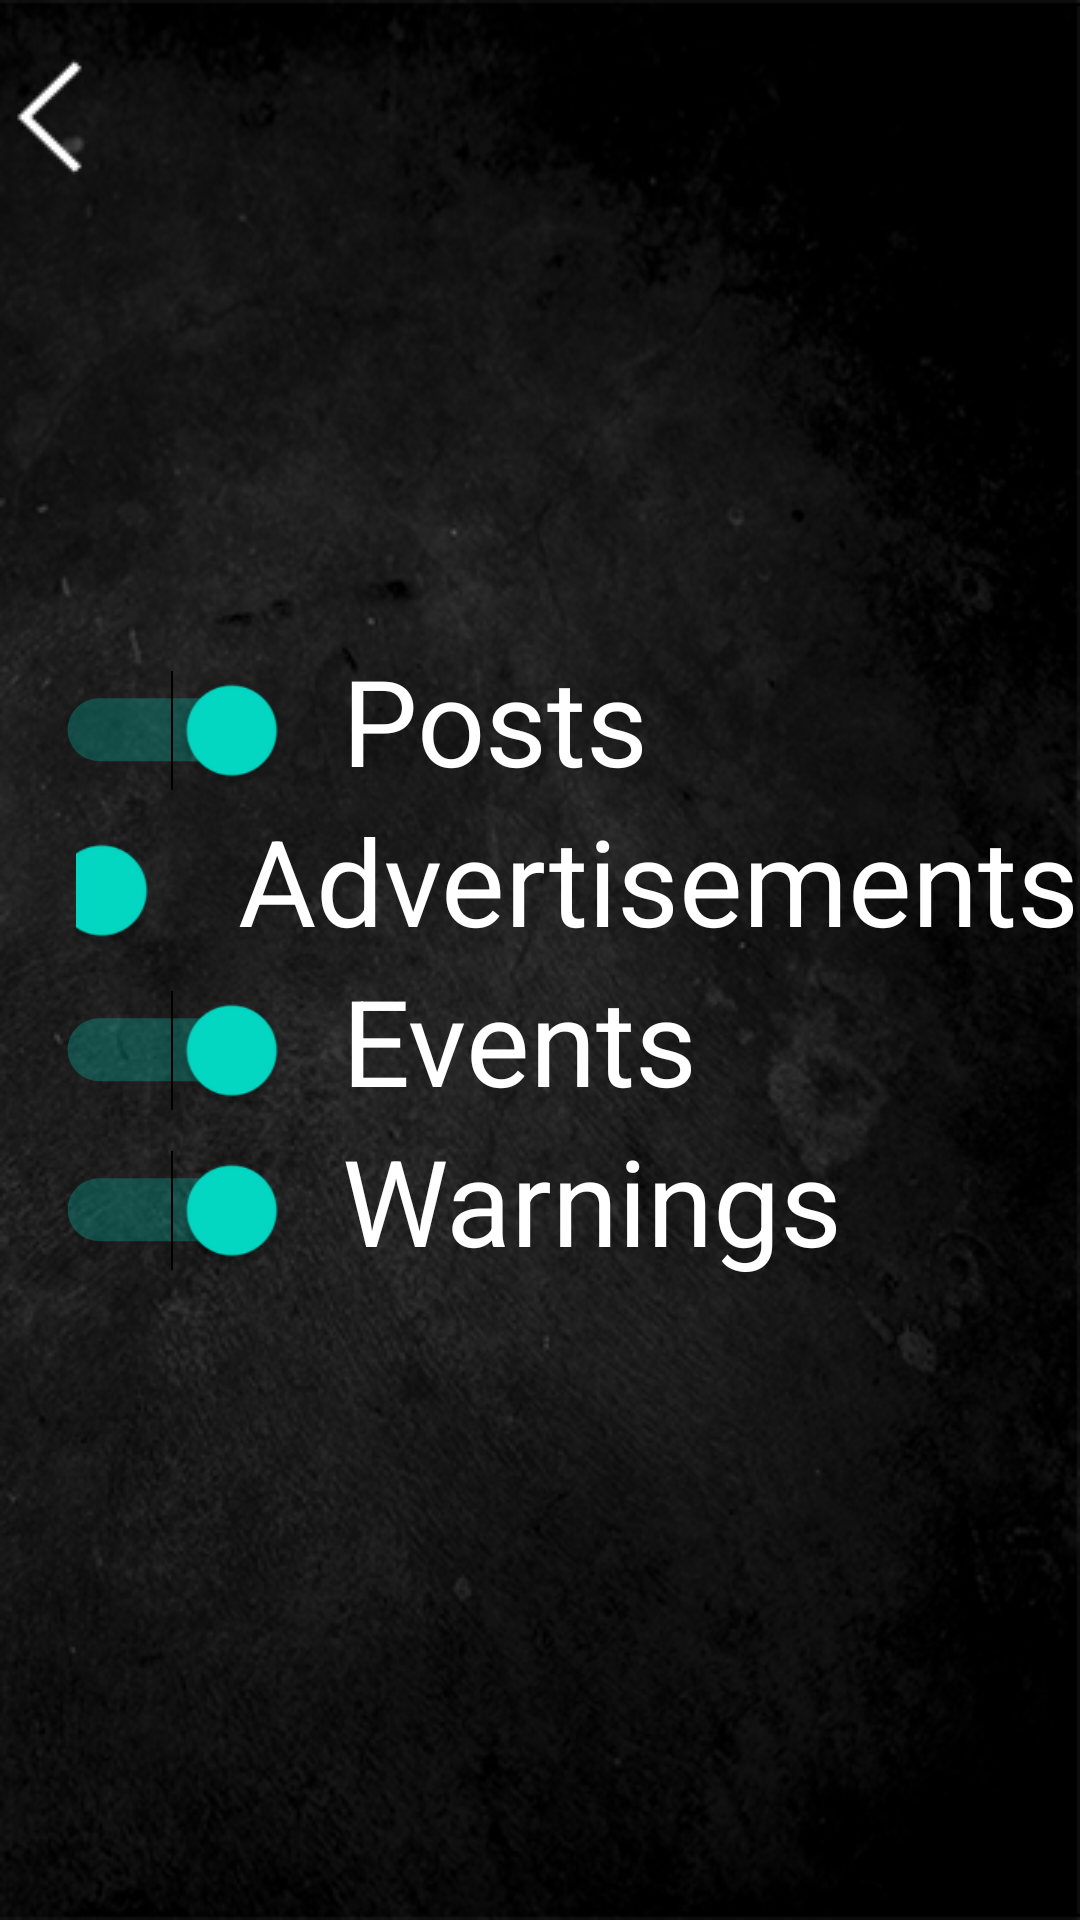

Named icons in this screenshot (1080*1920) and their centers, (x,y):
backbutton: (50,117)
